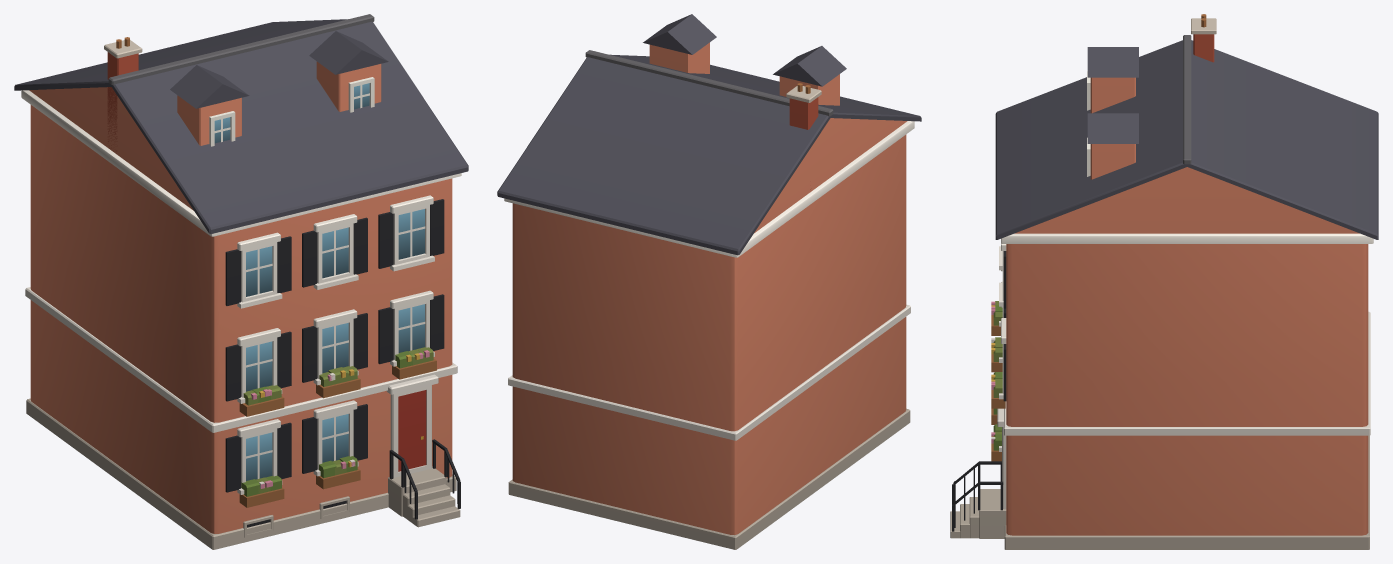
The model's file is lane_w8.glb.
The picture shows the model from 3 angles, left to right: view 1: azimuth 30°, elevation 25°; view 2: azimuth 150°, elevation 25°; view 3: azimuth 270°, elevation 25°; orthographic projection. The views are drawn at different scales.
Visible parts, largest first — view 1: lane_w8; view 2: lane_w8; view 3: lane_w8.
Boxes of the visible parts, x1,y1,x2,y2 form: lane_w8: [14, 14, 468, 549]; lane_w8: [497, 14, 921, 549]; lane_w8: [950, 14, 1378, 549].
Size of the model in its own units: 9.8 by 15.45 by 14.21.
Materials: 1 (1 with a texture image).
